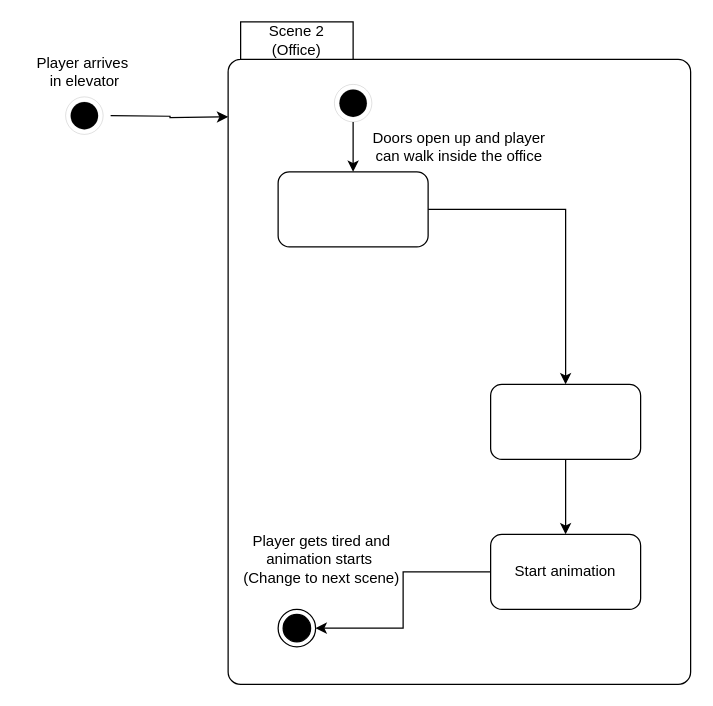
The diagram is 713 pixels wide and 706 high, and some of its shapes have lost their labels. Each missing label, with the centre of its shape:
Sit down to your desk: (x=565, y=421)
Walk around inside the office: (x=352, y=209)
